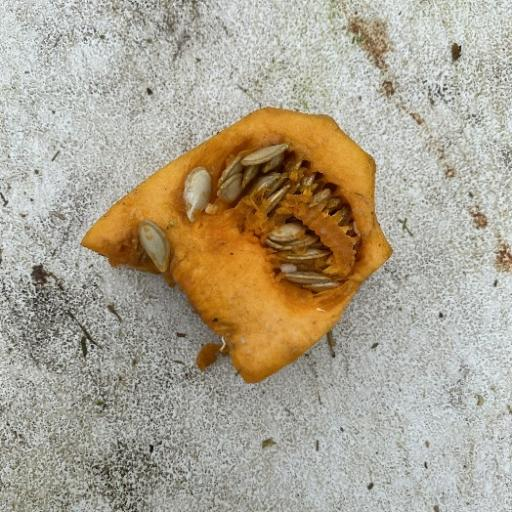Waste: (79, 105, 394, 384)
